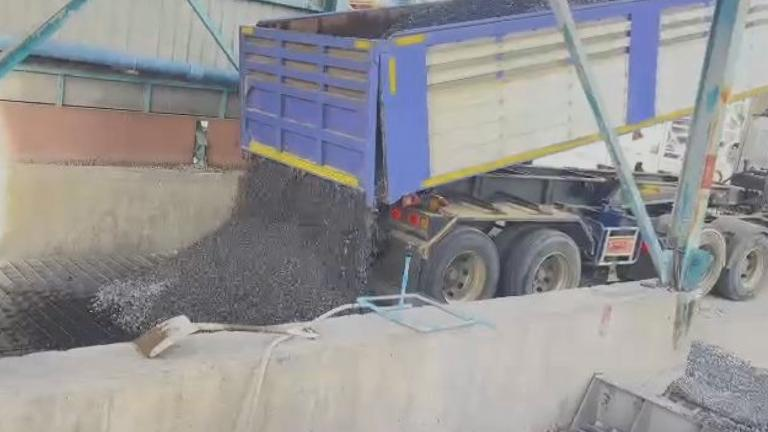gravel: (95, 161, 376, 332), (667, 343, 768, 432), (369, 0, 549, 37), (564, 0, 679, 5)
